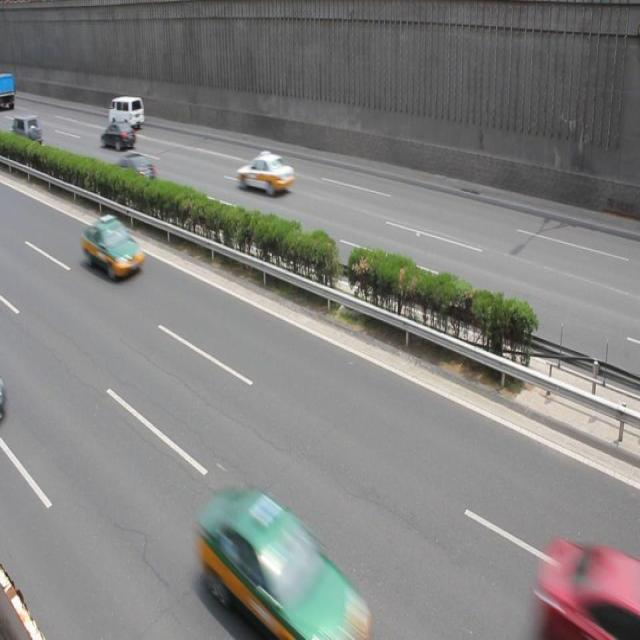car: (201, 483, 352, 640), (82, 213, 144, 284), (238, 149, 294, 197), (108, 154, 157, 196), (10, 117, 42, 152), (100, 122, 135, 151)
truck: (108, 95, 145, 129)
